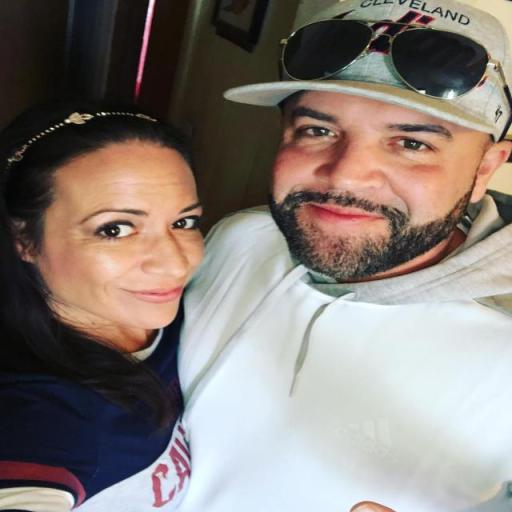Adidas: (333, 414, 400, 466)
